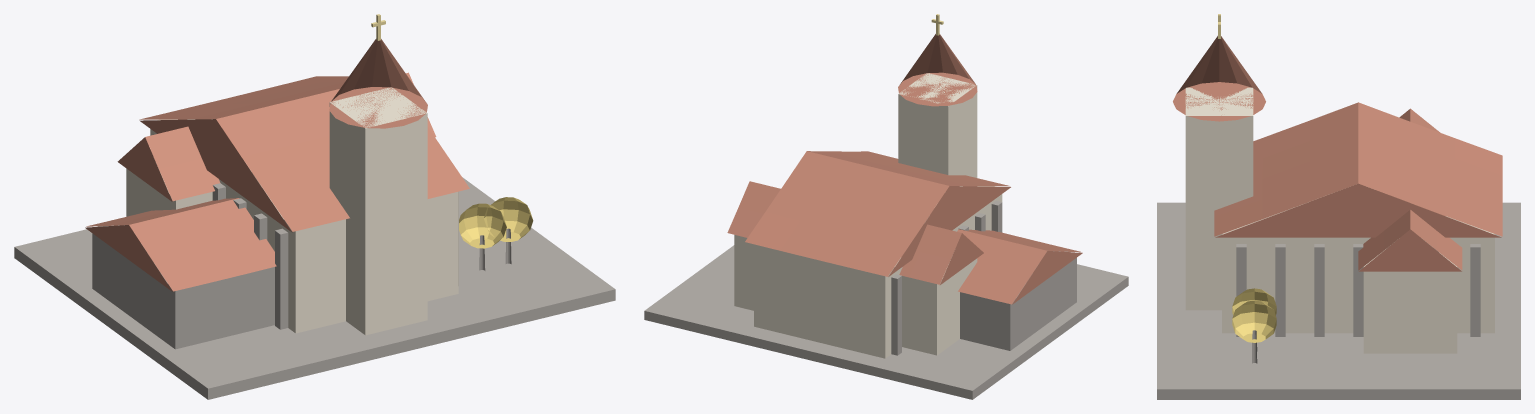
The model's file is lm_90_nha_tho_dran_va_tu_vien_da_co_don_duong.glb.
3 renders of one model, left to right at view 1: azimuth 30°, elevation 25°; view 2: azimuth 150°, elevation 25°; view 3: azimuth 270°, elevation 25°, orthographic. The views are drawn at different scales.
Visible parts, largest first — view 1: lm_90_nha_tho_dran_va_tu_vien_da_co_don_duong; view 2: lm_90_nha_tho_dran_va_tu_vien_da_co_don_duong; view 3: lm_90_nha_tho_dran_va_tu_vien_da_co_don_duong.
Part boxes in pixels (x1=…): lm_90_nha_tho_dran_va_tu_vien_da_co_don_duong: x1=14, y1=14, x2=615, y2=399; lm_90_nha_tho_dran_va_tu_vien_da_co_don_duong: x1=644, y1=14, x2=1128, y2=399; lm_90_nha_tho_dran_va_tu_vien_da_co_don_duong: x1=1157, y1=14, x2=1520, y2=399.
Bounding box in the file's own units: 34 × 24.8 × 28.
